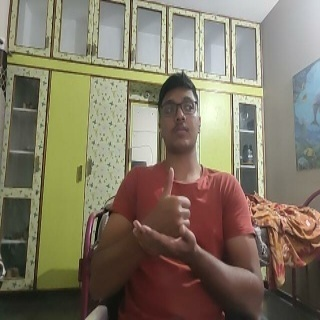Face: (155, 72, 202, 155)
Help: (129, 164, 201, 263)
